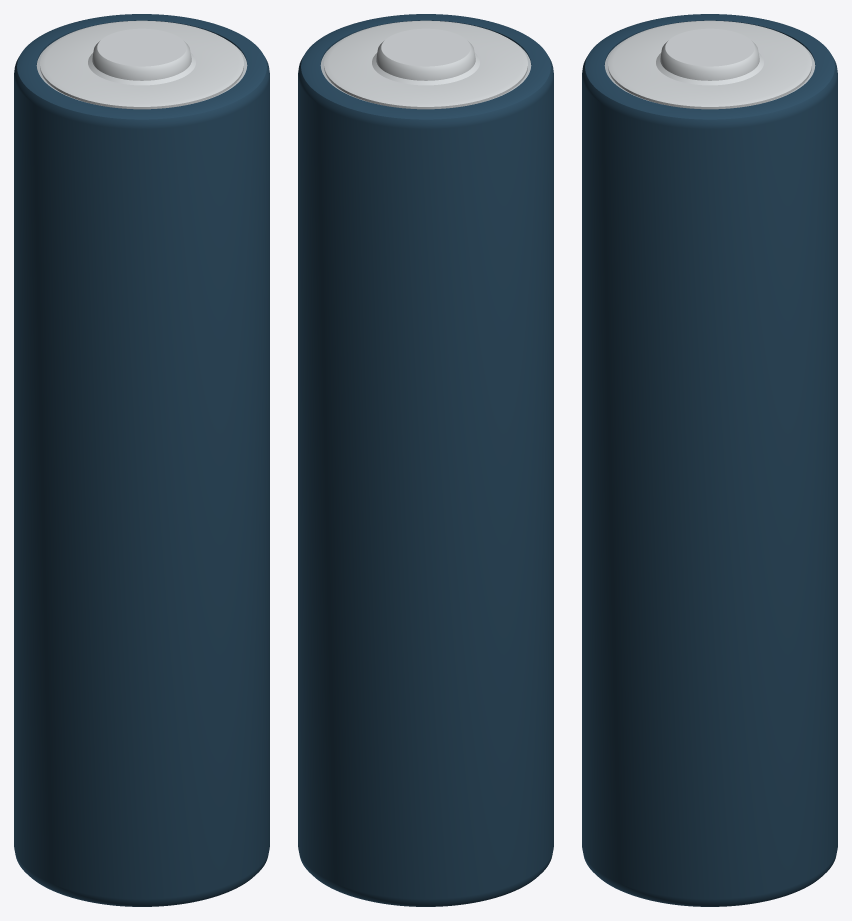
The picture shows the model from 3 angles, left to right: view 1: azimuth 30°, elevation 25°; view 2: azimuth 150°, elevation 25°; view 3: azimuth 270°, elevation 25°; orthographic projection.
Parts seen in each view (by area): view 1: outer_sleeve, positive_terminal; view 2: outer_sleeve, positive_terminal; view 3: outer_sleeve, positive_terminal.
Part boxes in pixels (x1,y1,x2,y2): outer_sleeve: [14, 14, 269, 906]; positive_terminal: [40, 20, 243, 109]; outer_sleeve: [298, 14, 553, 906]; positive_terminal: [324, 20, 527, 109]; outer_sleeve: [582, 14, 837, 906]; positive_terminal: [608, 20, 811, 109].
Size of the model in its own units: 0.0143 by 0.0502 by 0.0143.
